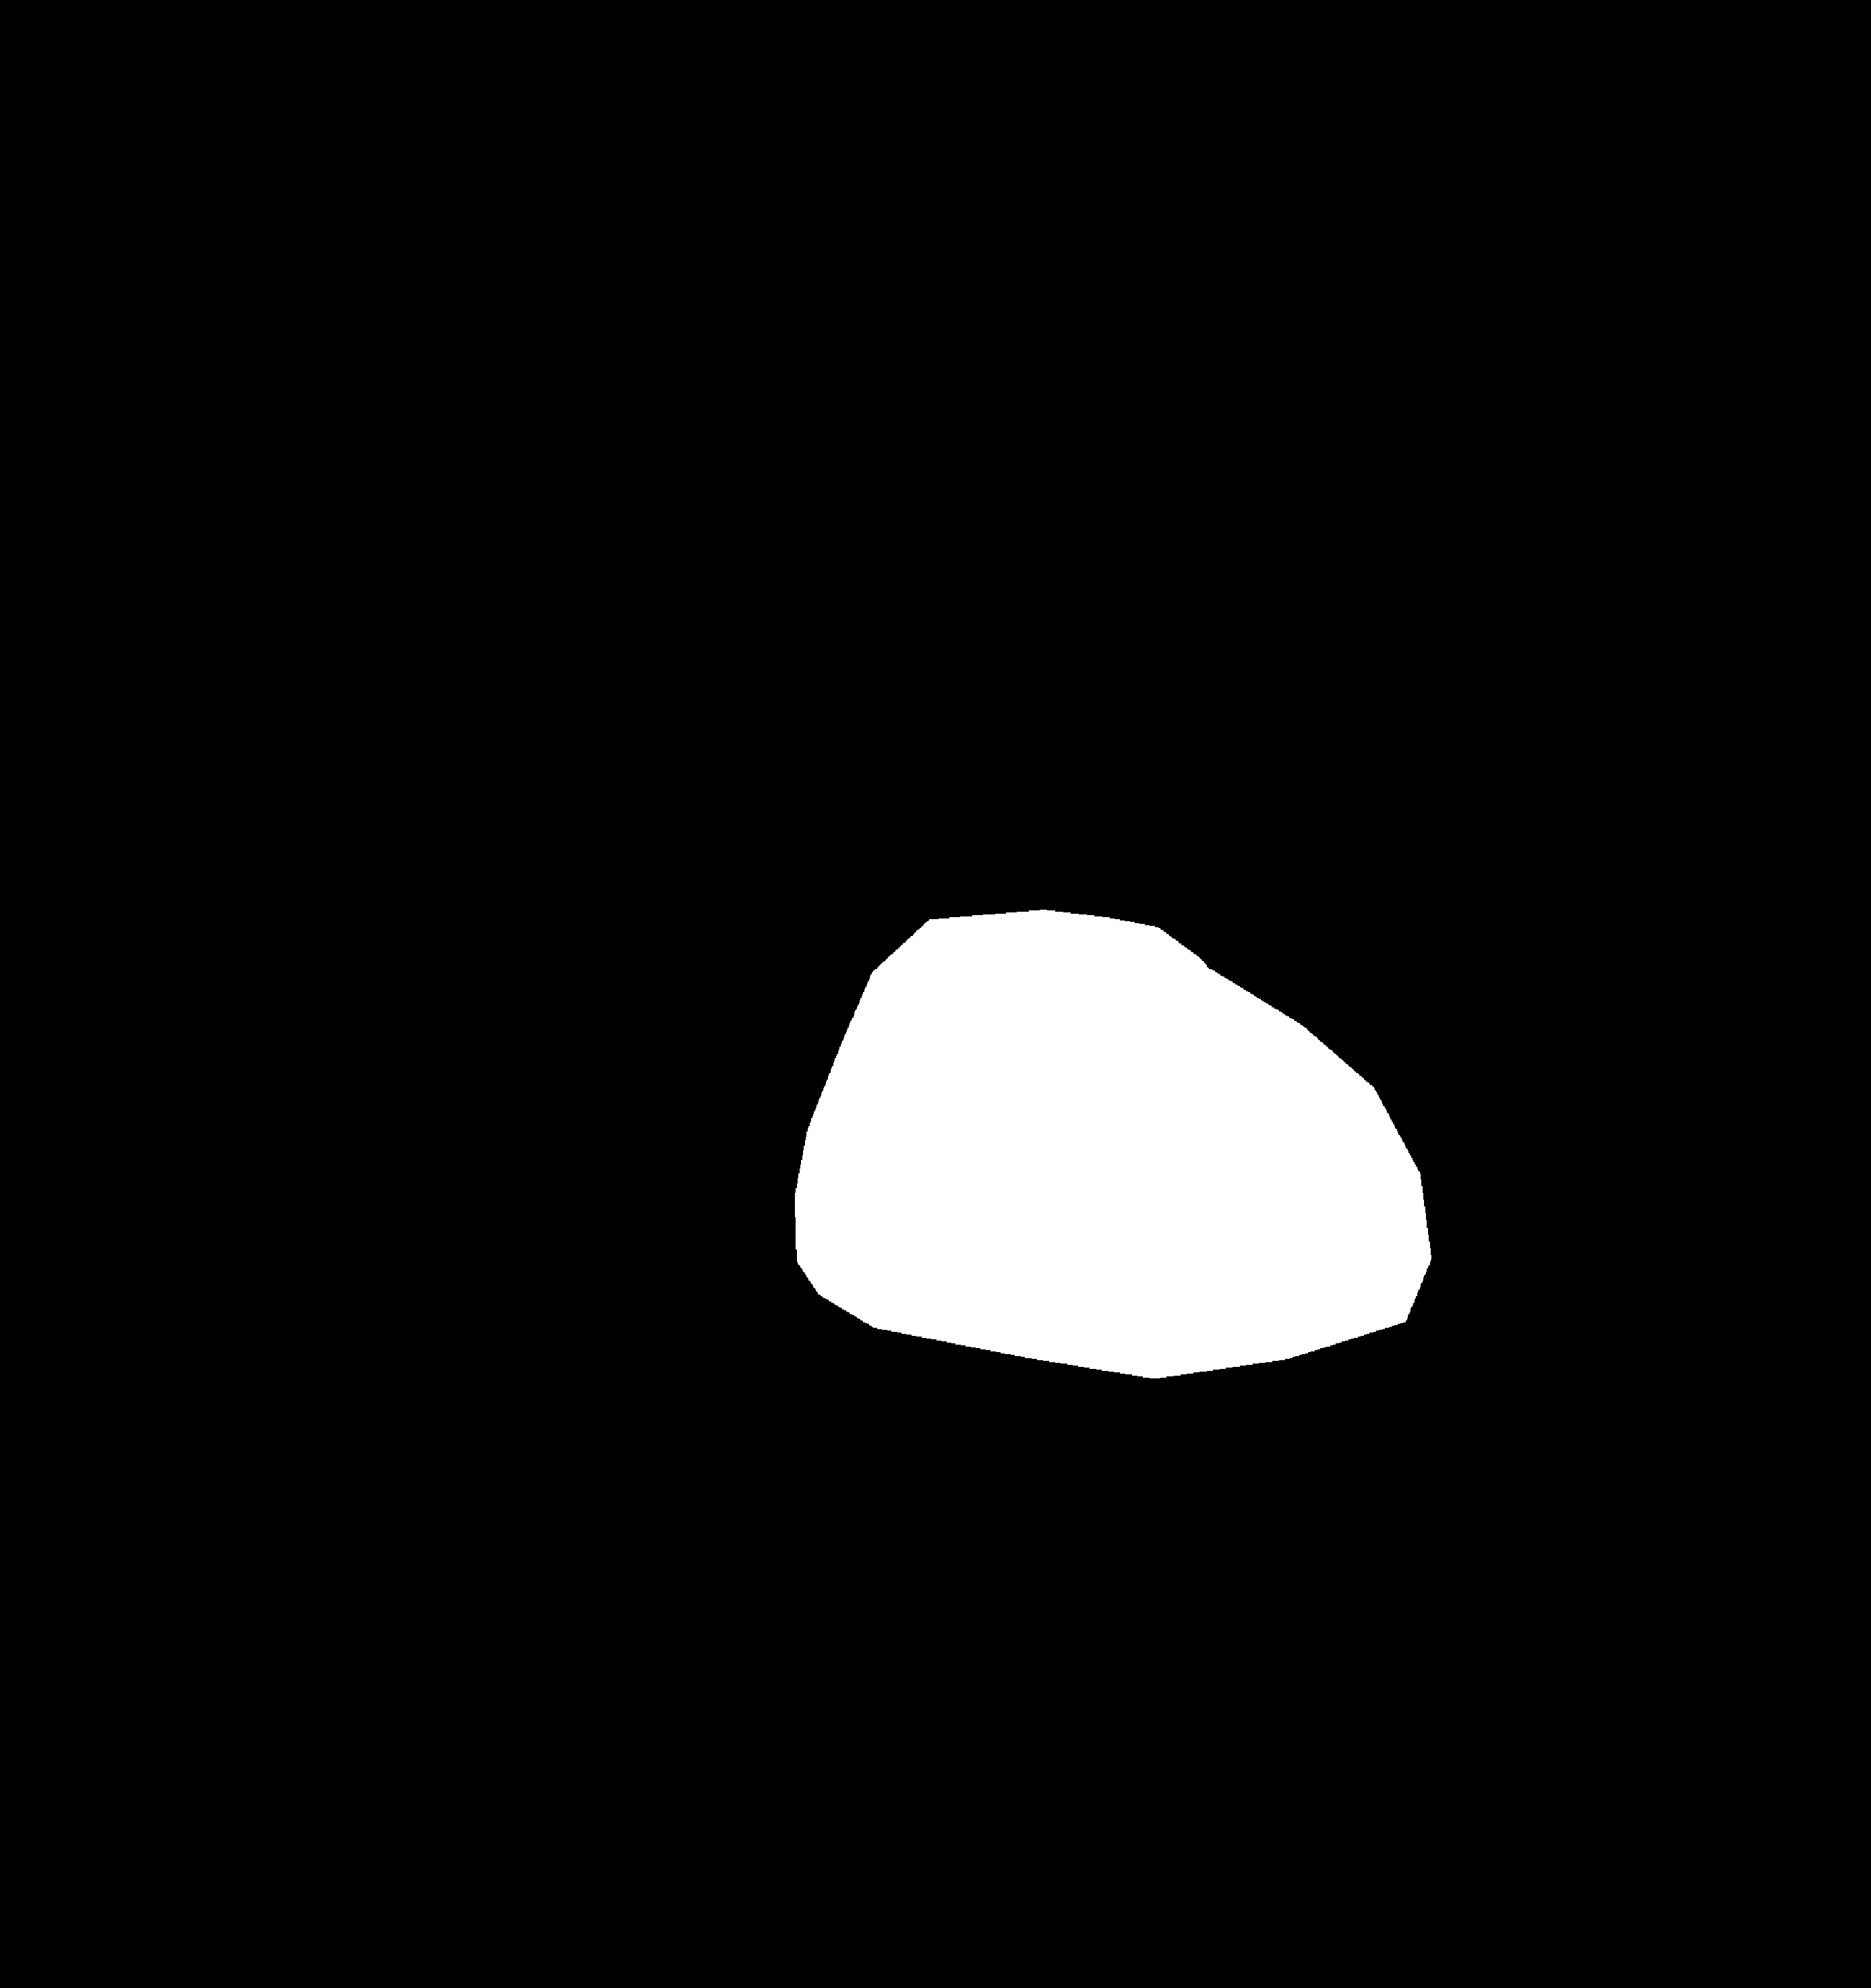heart: (790, 966, 1421, 1411)
left_lung: (304, 241, 885, 1504)
right_lung: (1023, 199, 1588, 1476)
